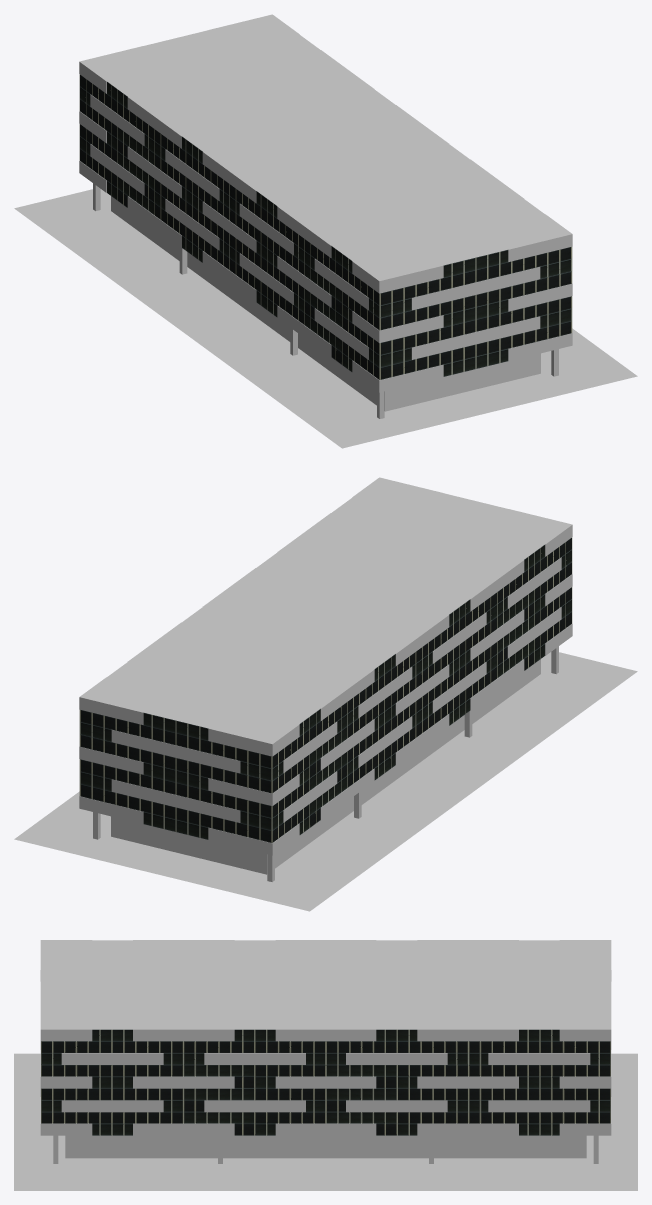
3 views of the same model, one above another, from view 1: azimuth 30°, elevation 25°; view 2: azimuth 150°, elevation 25°; view 3: azimuth 270°, elevation 25° (orthographic). The views are drawn at different scales.
Visible parts, largest first — view 1: M-008; view 2: M-008; view 3: M-008.
Part boxes in pixels (left/top/right/bottom): M-008: left=14, top=14, right=637, bottom=448; M-008: left=14, top=477, right=637, bottom=911; M-008: left=14, top=940, right=637, bottom=1190.
Size of what is drawn, in the model's own units: 37.48 by 17.5 by 72.
